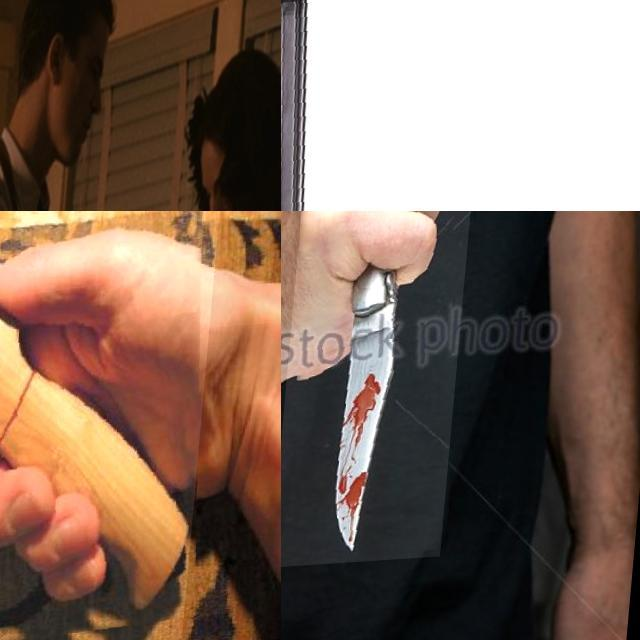-: (0, 211, 255, 640), (281, 211, 482, 571)
gun-knife-thesis - v11 Yolov5 augmented: (281, 0, 640, 211)
